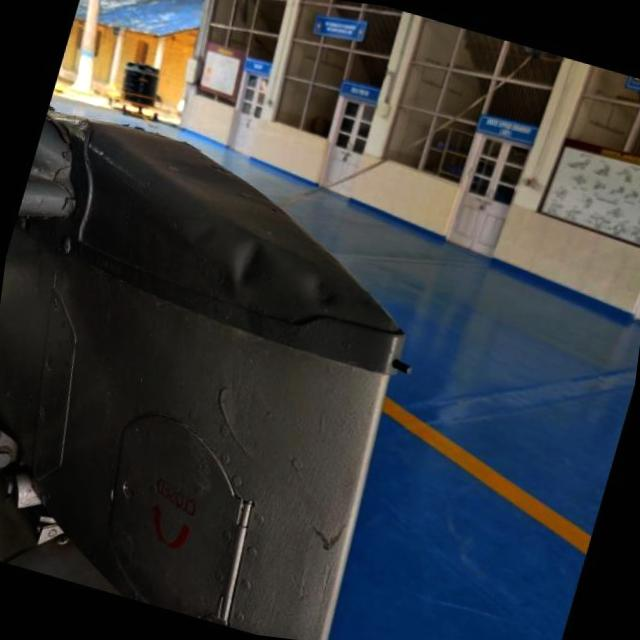dent: (212, 228, 275, 309), (290, 258, 357, 326)
